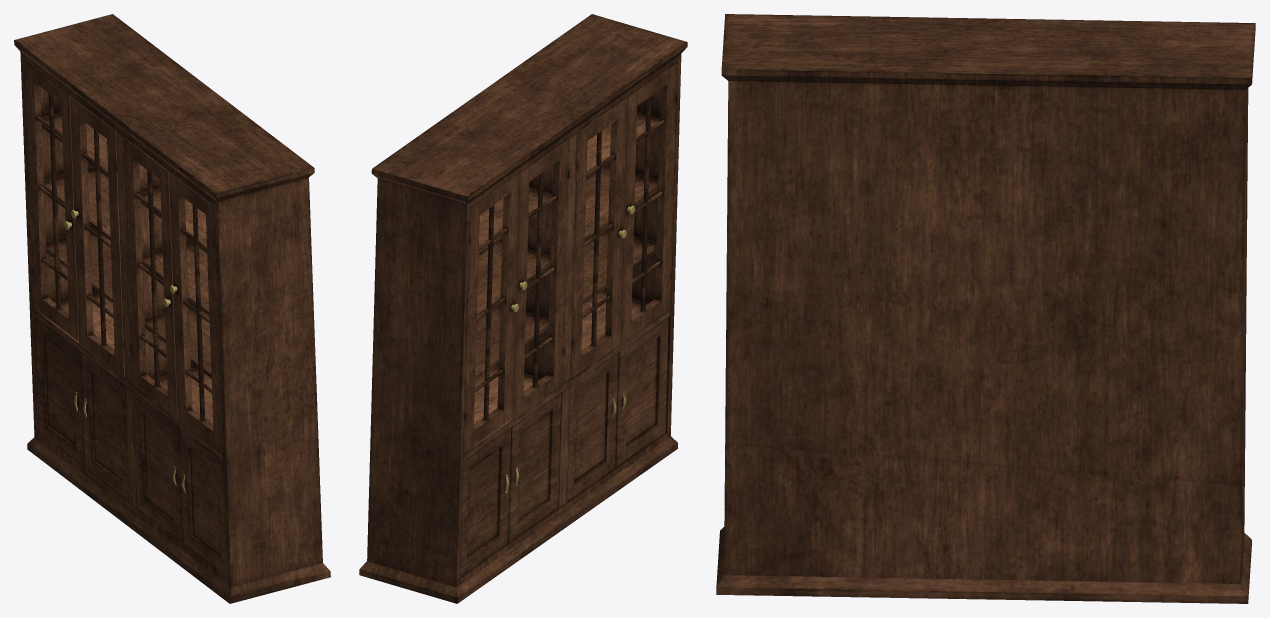
Rendered from Cupboard.glb.
3 renders of one model, left to right at view 1: azimuth 30°, elevation 25°; view 2: azimuth 150°, elevation 25°; view 3: azimuth 270°, elevation 25°, orthographic. The views are drawn at different scales.
Visible parts, largest first — view 1: Cupboard (×2), Cupboard_Door; view 2: Cupboard (×2), Cupboard_Door; view 3: Cupboard.
Part boxes in pixels (left/top/right/bottom): Cupboard (×2): left=14, top=14, right=330, bottom=603; Cupboard_Door: left=24, top=61, right=78, bottom=340; Cupboard (×2): left=359, top=14, right=687, bottom=603; Cupboard_Door: left=463, top=174, right=519, bottom=451; Cupboard: left=716, top=14, right=1255, bottom=603.
Bounding box in the file's own units: 0.6611 × 2.18 × 2.04.
2 materials, 2 textured.
